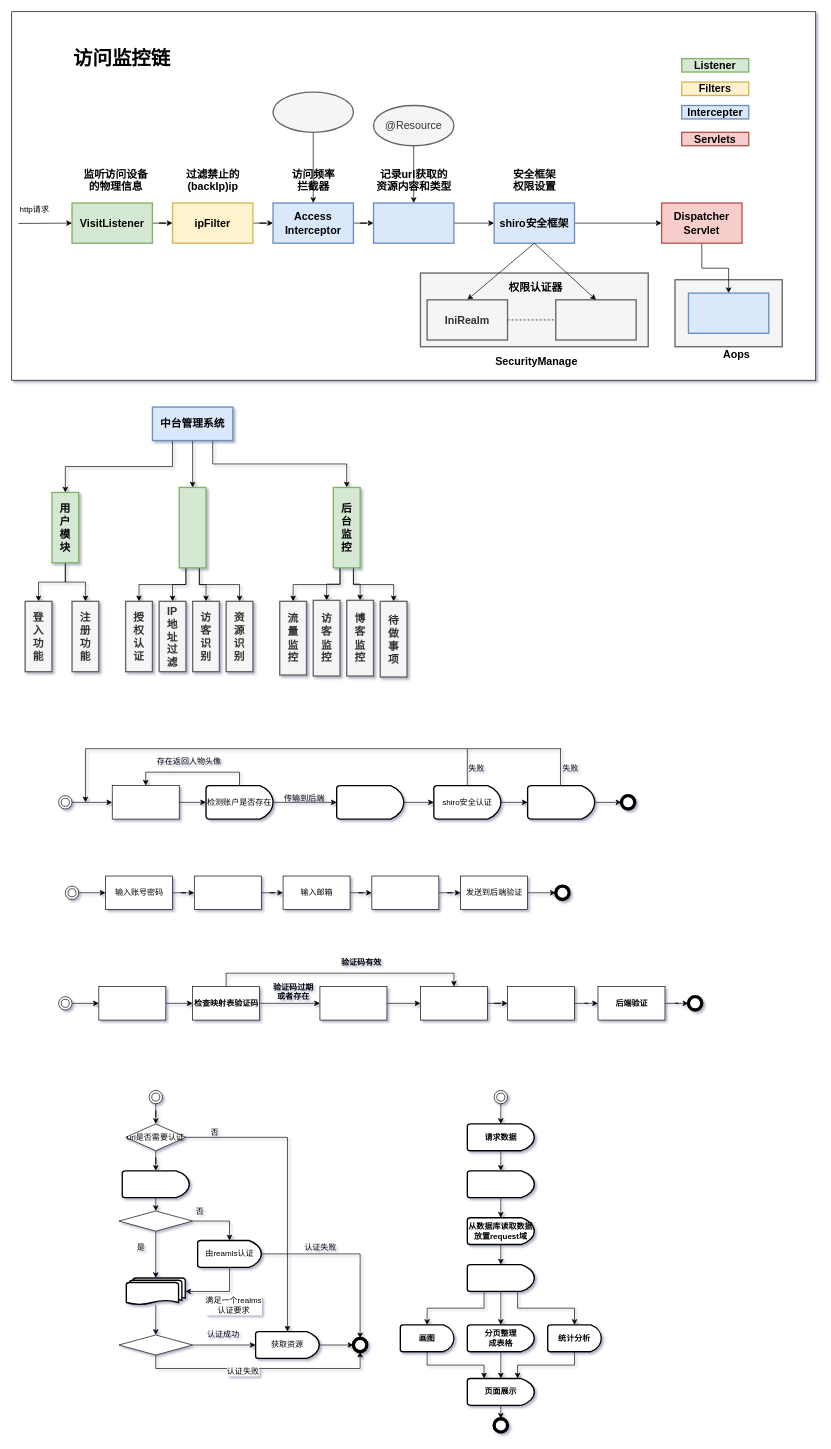
Image size: 831x1449. Some labels were removed from this diagram. Here are the shapes that lost their labels. From the top down, the centre of each, then its label:
At point 313,112: "@AccessLimit".
At point 413,223: "Resource Interceptor".
At point 595,319: "MyRealm (userPwd)".
At point 728,313: "Controllr".
At point 192,527: "访 问 控 制 模 块".
At point 145,802: "输入账户和密码".
At point 370,802: "对密码进行加密".
At point 561,802: "用户名密码认证".
At point 227,892: "验证账号".
At point 405,892: "通过后端发送 验证码".
At point 132,1003: "前端发送认证信息".
At point 353,1003: "生成验证码".
At point 453,1003: "发送验证码到 相应的邮箱".
At point 541,1003: "用户接收 输入".
At point 155,1184: "由subject生成token".
At point 500,1184: "安全认证".
At point 155,1220: "是否缓存token".
At point 155,1291: "获取角色 和权限".
At point 500,1278: "themeleaf模板 进行数据渲染".
At point 155,1344: "权限是否满足".
